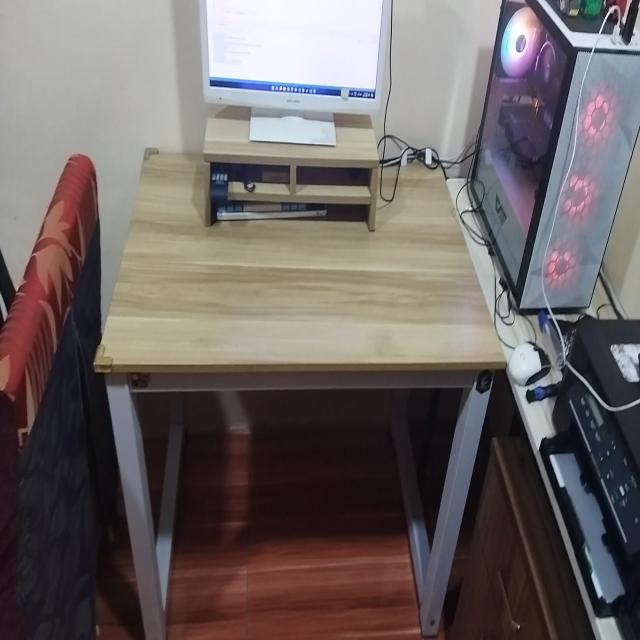table: (104, 141, 491, 640)
